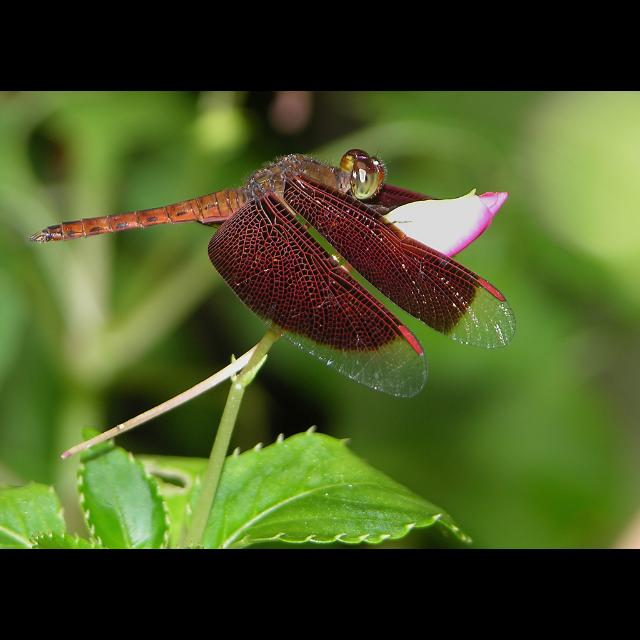Flower: (377, 189, 509, 257)
